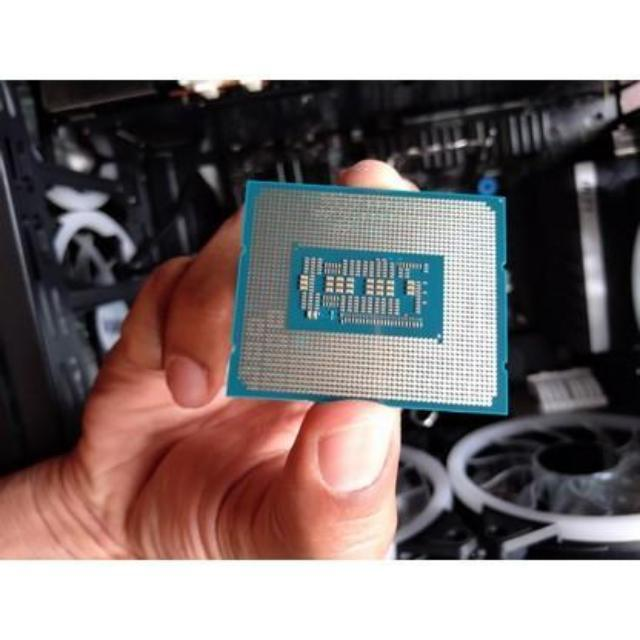CPU: (234, 179, 516, 421)
